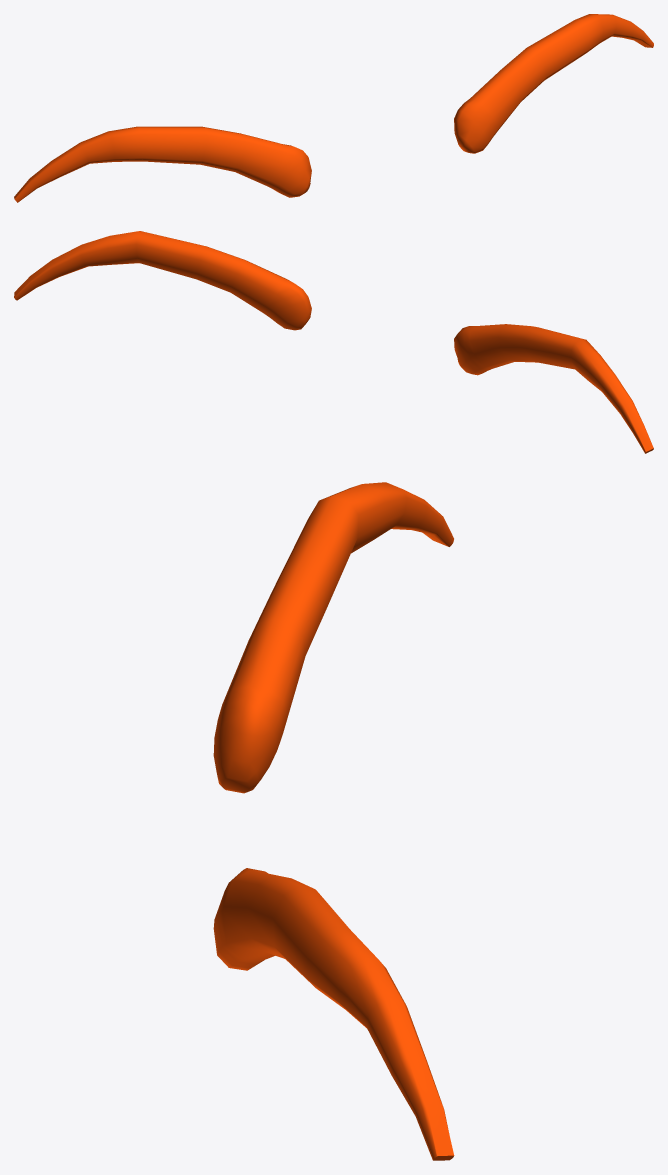
Rendered from Eyebrows_04_06.fbx.
The picture shows the model from 3 angles, top to bottom: view 1: azimuth 30°, elevation 25°; view 2: azimuth 150°, elevation 25°; view 3: azimuth 270°, elevation 25°; orthographic projection. The views are drawn at different scales.
Visible parts, largest first — view 1: Eyebrows_04_06; view 2: Eyebrows_04_06; view 3: Eyebrows_04_06.
Part boxes in pixels (box(x1,y1,x2,y2)): Eyebrows_04_06: box(14, 14, 653, 202); Eyebrows_04_06: box(14, 231, 653, 453); Eyebrows_04_06: box(213, 482, 454, 1160).
Size of the model in its own units: 19.76 by 2.45 by 3.22.
